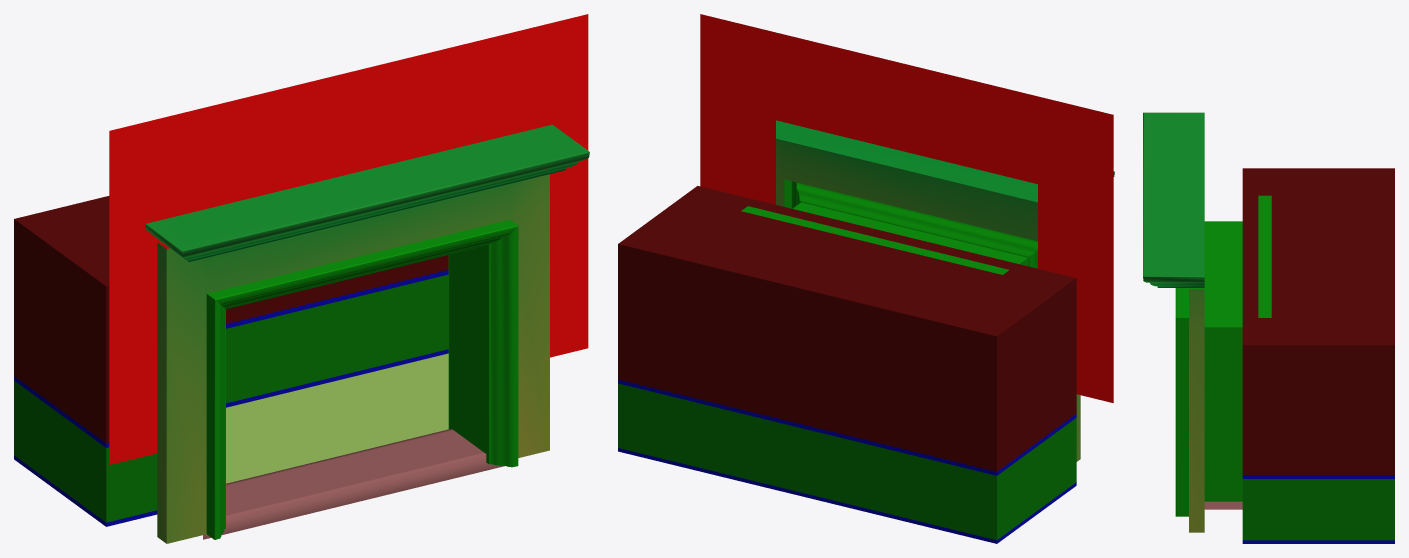
The model's file is SM_BaseWallStoreA.fbx.
3 views of the same model, side by side, from view 1: azimuth 30°, elevation 25°; view 2: azimuth 150°, elevation 25°; view 3: azimuth 270°, elevation 25° (orthographic). The views are drawn at different scales.
Parts seen in each view (by area): view 1: SM_BaseWallStoreA; view 2: SM_BaseWallStoreA; view 3: SM_BaseWallStoreA.
Part boxes in pixels (bbox=[...]): SM_BaseWallStoreA: bbox=[14, 14, 589, 543]; SM_BaseWallStoreA: bbox=[618, 14, 1114, 543]; SM_BaseWallStoreA: bbox=[1143, 112, 1394, 543].
Bounding box in the file's own units: 600 × 510 × 331.
